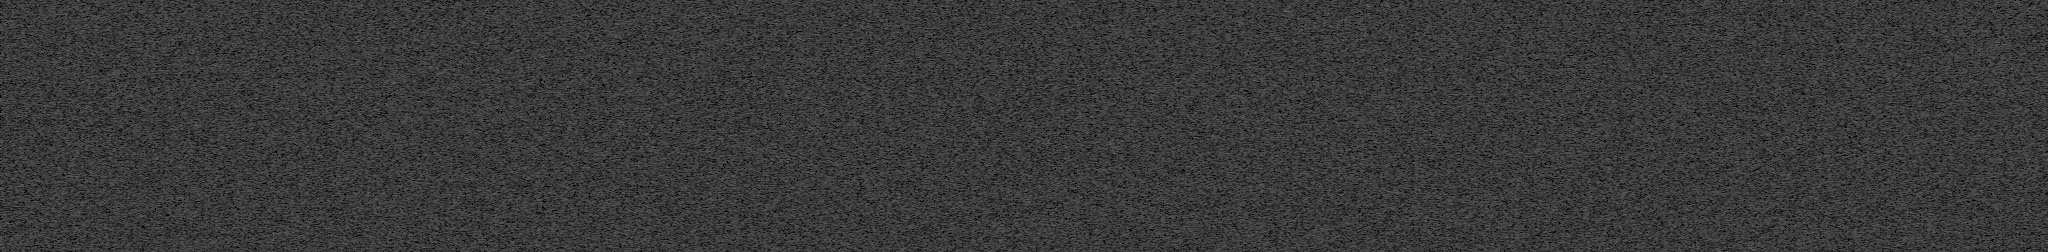wv_cw: (21, 0, 27, 252), (1479, 0, 1482, 252)
wv_lsb: (1857, 137, 1863, 252), (1610, 148, 1616, 252), (643, 1, 648, 101), (1610, 67, 1616, 148), (44, 129, 50, 206), (1610, 1, 1616, 67), (342, 90, 347, 149), (1857, 37, 1863, 89), (1857, 90, 1863, 136), (44, 1, 50, 40), (44, 215, 50, 252), (342, 1, 347, 37), (1857, 1, 1863, 37), (342, 195, 347, 226), (342, 150, 347, 180), (342, 37, 347, 67), (44, 51, 50, 80), (44, 98, 50, 116), (643, 230, 647, 252), (344, 232, 347, 252), (44, 80, 50, 94), (342, 67, 347, 80), (342, 181, 347, 191), (643, 102, 647, 114), (44, 208, 50, 215), (44, 118, 48, 128), (643, 219, 647, 228), (44, 40, 50, 47), (643, 202, 647, 210), (643, 195, 647, 202), (644, 185, 647, 193), (644, 157, 647, 165), (643, 116, 647, 121), (342, 85, 347, 89), (344, 227, 347, 231), (644, 142, 647, 148), (342, 81, 347, 84), (644, 132, 647, 136), (644, 149, 647, 151)
wv_usb: (794, 54, 799, 102), (795, 178, 799, 208), (795, 161, 799, 176), (795, 4, 799, 20), (795, 236, 799, 252), (795, 215, 799, 230), (795, 27, 799, 40), (795, 125, 799, 137), (795, 43, 799, 52), (795, 138, 799, 146), (795, 118, 799, 125), (795, 208, 799, 214), (795, 154, 799, 161), (795, 103, 799, 110), (795, 20, 799, 26), (795, 148, 799, 153), (795, 231, 799, 235), (795, 112, 799, 116)
wv_wbfm: (684, 0, 712, 252)
